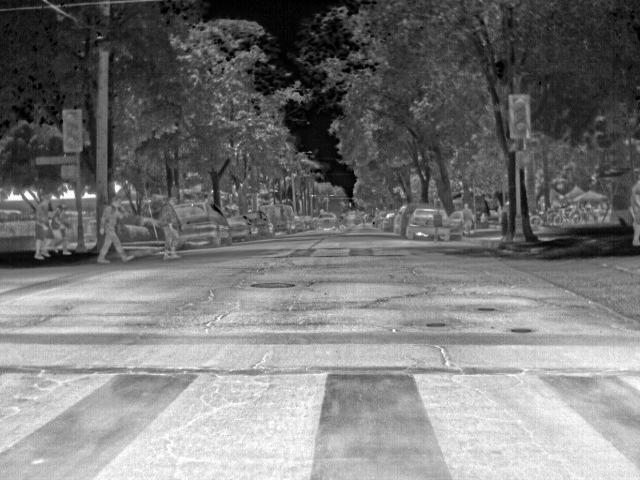car: (178, 200, 231, 246), (263, 202, 298, 236), (407, 205, 436, 241), (224, 205, 252, 239), (243, 210, 275, 237), (440, 208, 463, 244), (391, 204, 408, 236), (316, 210, 339, 231), (381, 211, 397, 231)
person: (92, 197, 138, 266), (30, 192, 56, 259), (158, 195, 182, 261), (51, 199, 77, 257), (627, 178, 640, 249), (462, 200, 479, 232)
